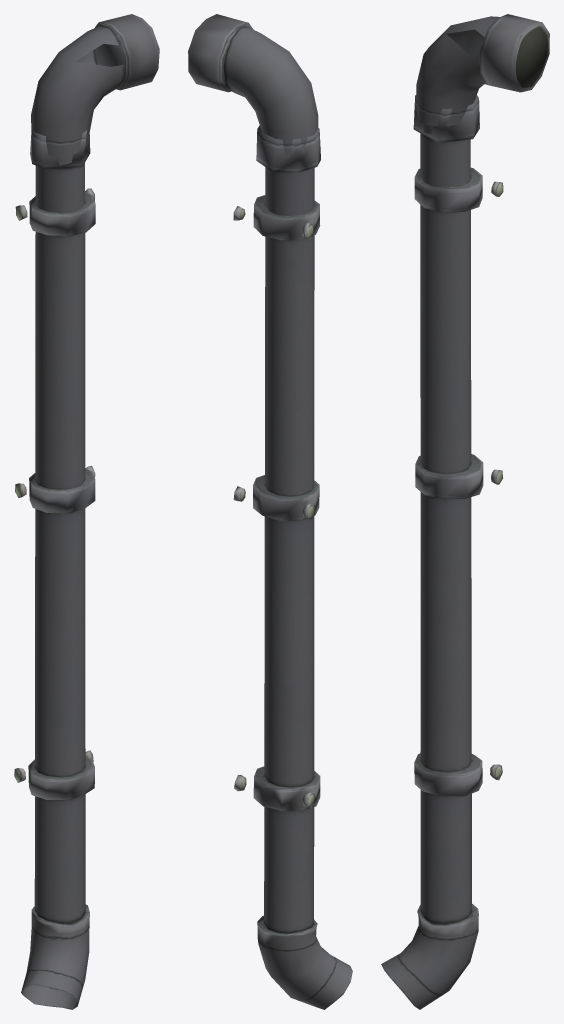
Rendered from rain-downpipe.glb.
The picture shows the model from 3 angles, left to right: view 1: azimuth 30°, elevation 25°; view 2: azimuth 150°, elevation 25°; view 3: azimuth 330°, elevation 25°; orthographic projection. The views are drawn at different scales.
Visible parts, largest first — view 1: geometry_0; view 2: geometry_0; view 3: geometry_0.
Part boxes in pixels (<box>): geometry_0: <box>14,14,159,1009</box>; geometry_0: <box>188,14,352,1009</box>; geometry_0: <box>381,14,549,1009</box>.
Size of the model in its own units: 0.1432 by 1 by 0.0866.
Materials: 1 (1 with a texture image).
